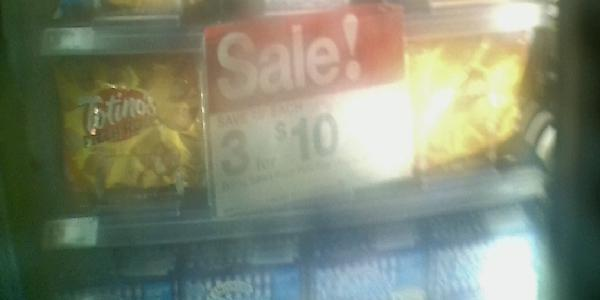icecream: (47, 49, 209, 229), (394, 30, 535, 180)
